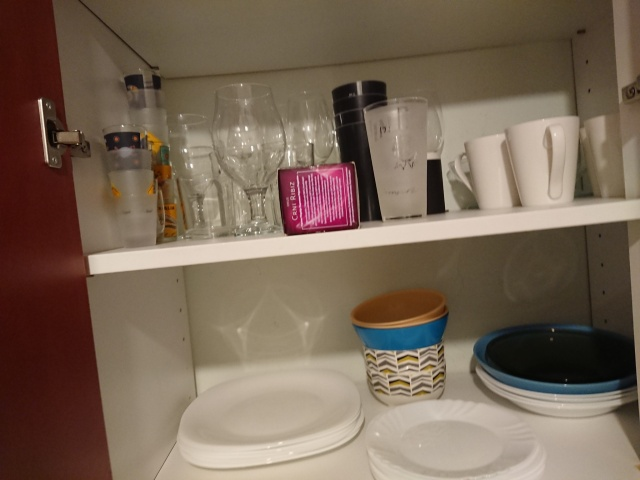Franck Black Currant Tea 60g: (275, 159, 363, 237)
